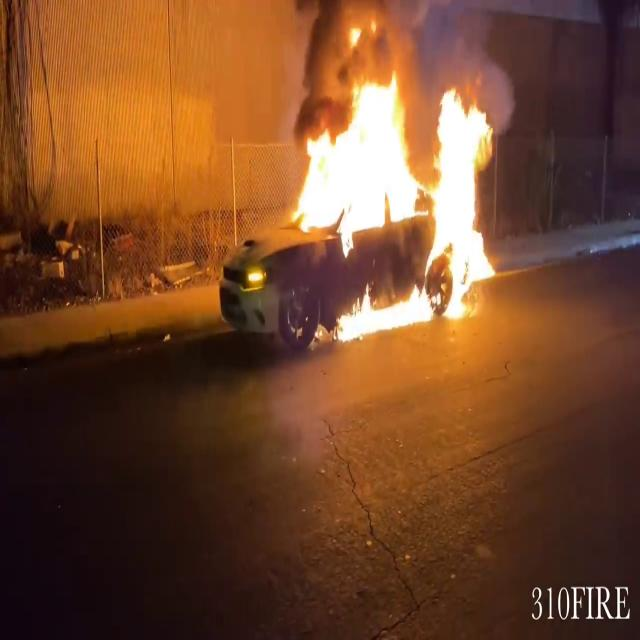Fire: (283, 58, 503, 337)
